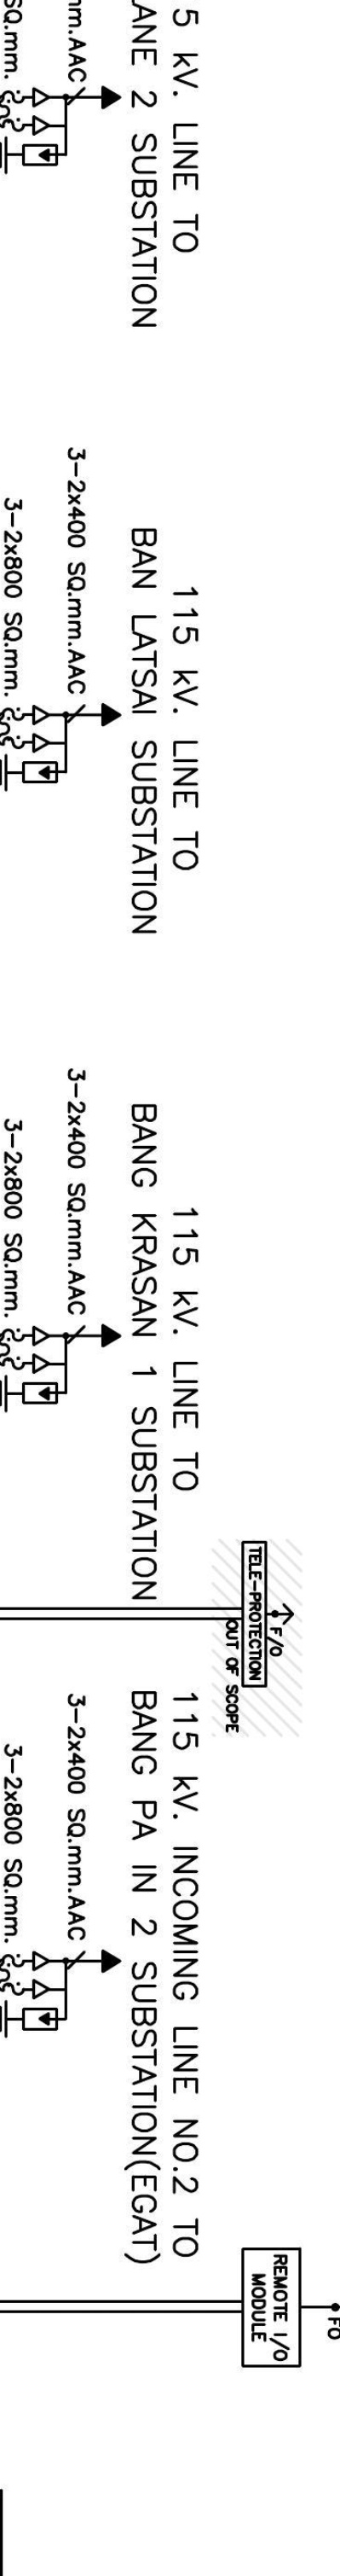remote_io_module: (241, 2247, 302, 2367)
tele_protection: (240, 1541, 268, 1689)
terminator_double: (31, 85, 69, 136), (31, 703, 69, 754), (31, 1950, 69, 2001), (31, 1324, 67, 1375)
